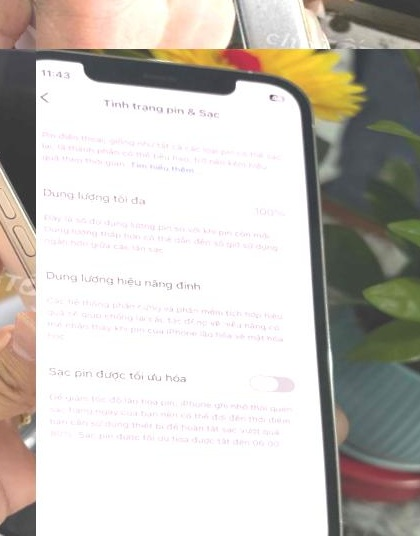scratch: (0, 131, 7, 170)
